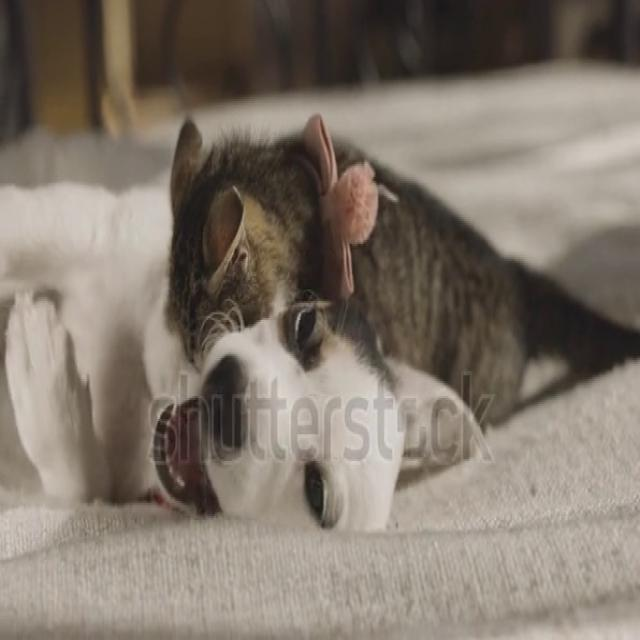normal_animals: (1, 105, 638, 535)
